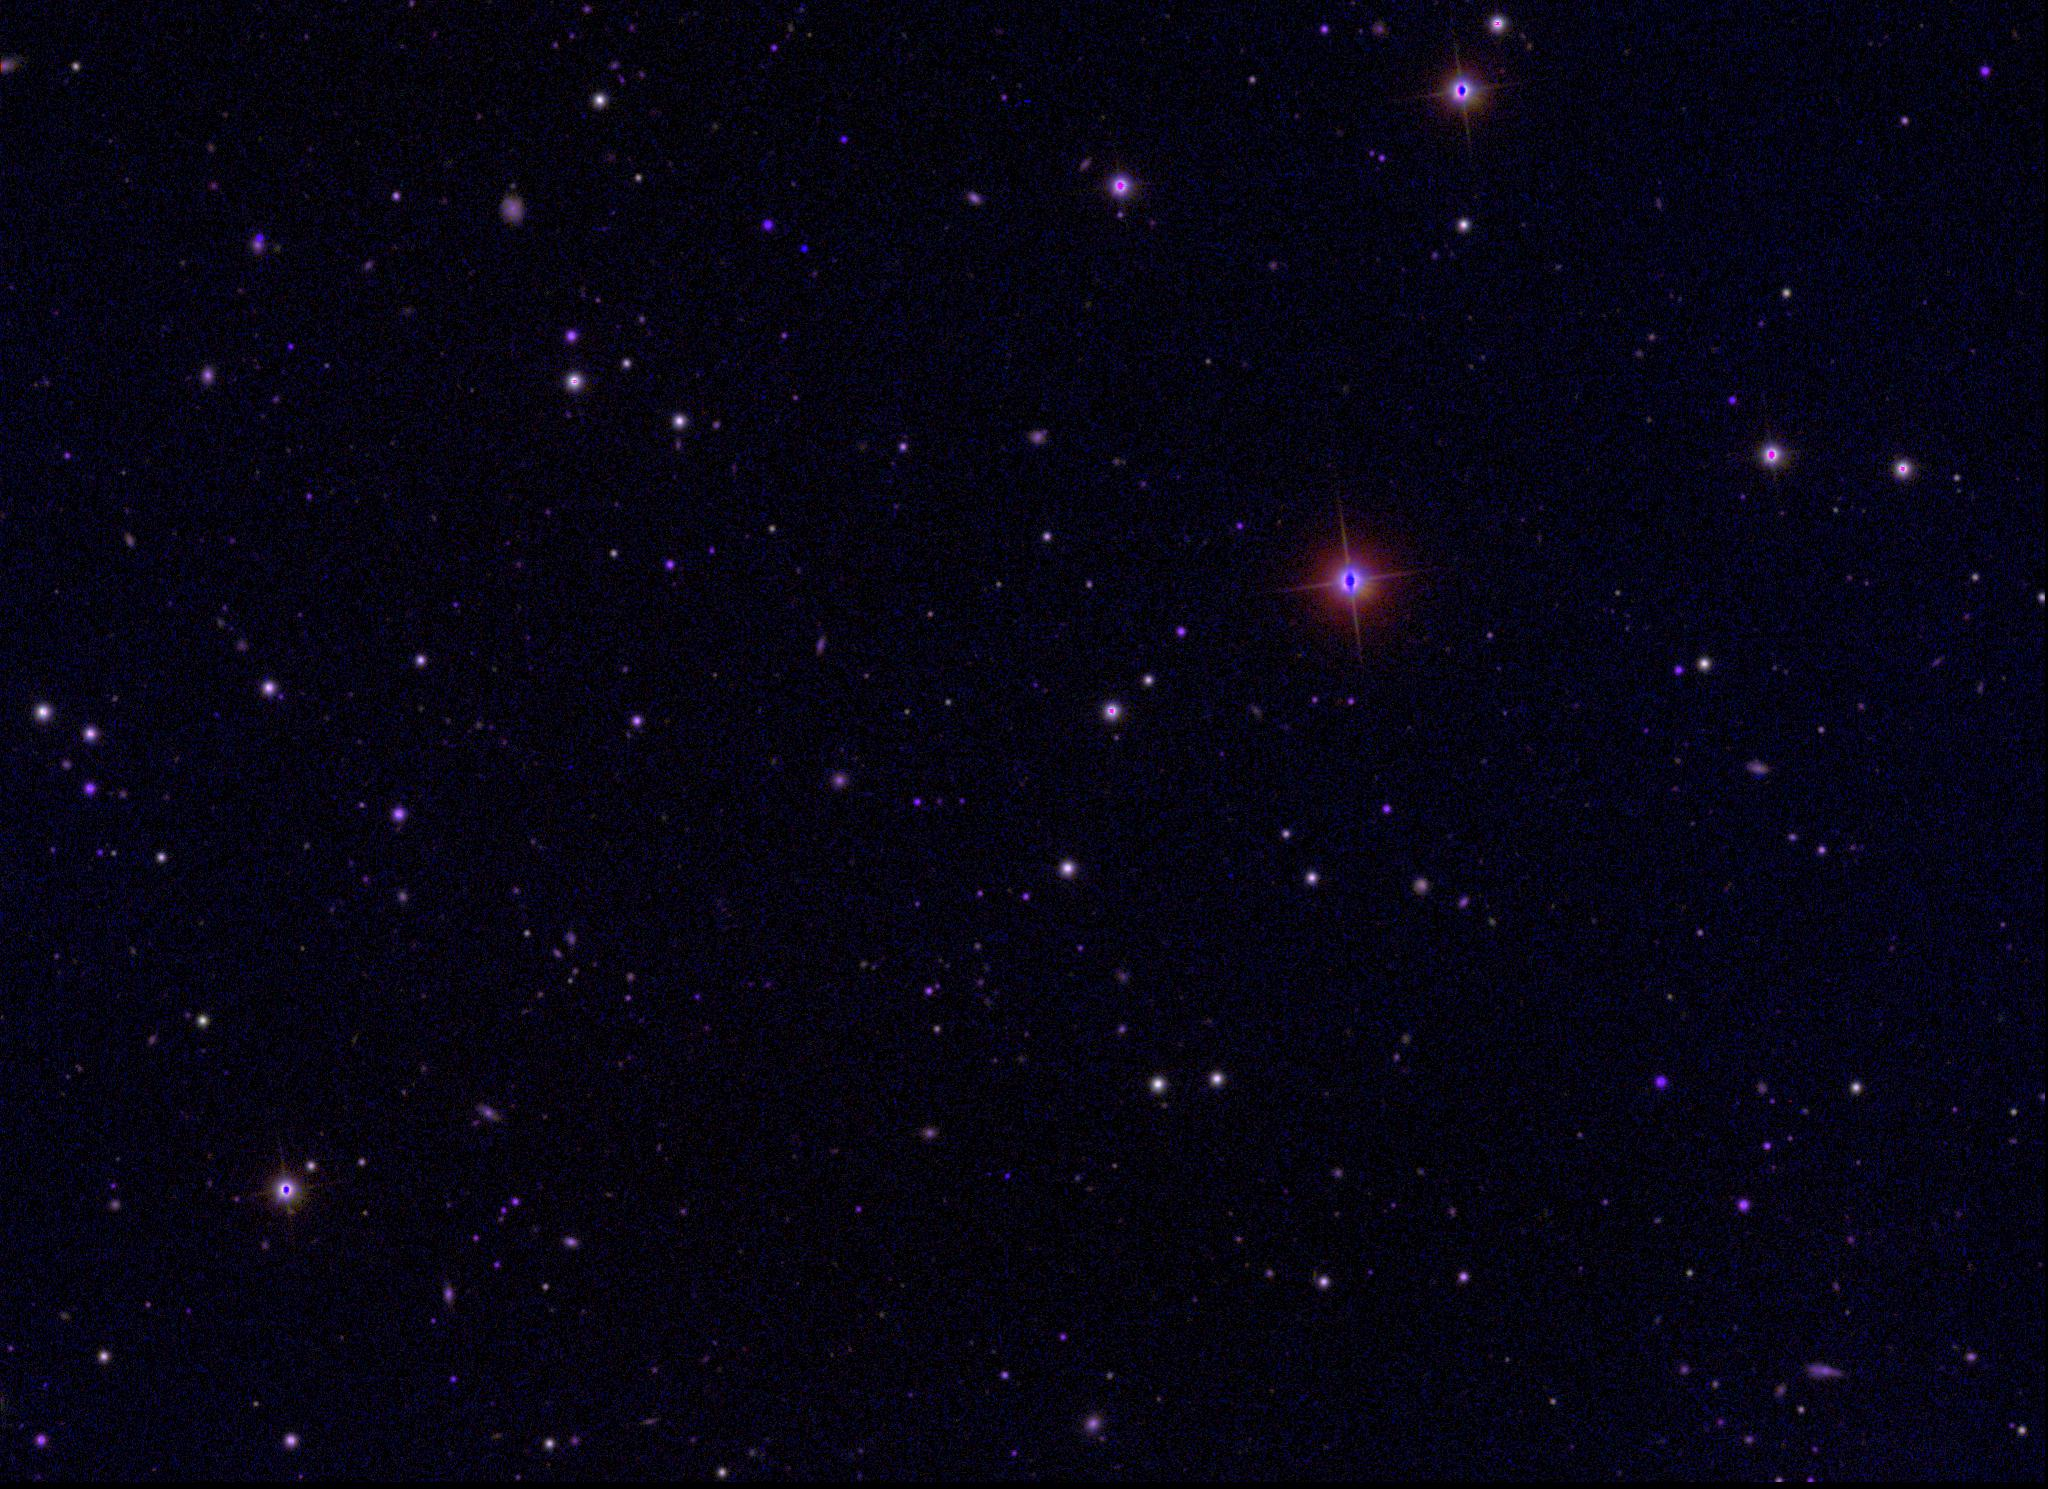L: (798, 240, 813, 255)
